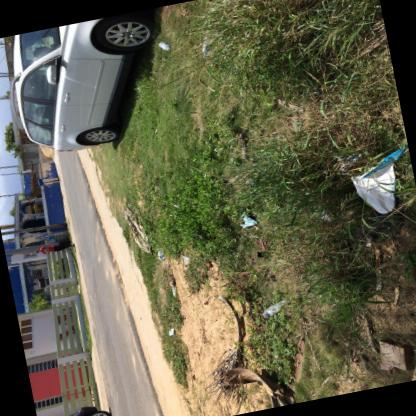Plastic: (351, 145, 408, 213), (262, 298, 285, 317), (202, 34, 210, 57), (183, 253, 191, 267), (159, 40, 170, 49), (157, 246, 163, 260), (167, 46, 170, 48)
Waste: (337, 153, 360, 170), (242, 213, 257, 227), (381, 361, 393, 369), (171, 286, 175, 296), (169, 327, 173, 334)
